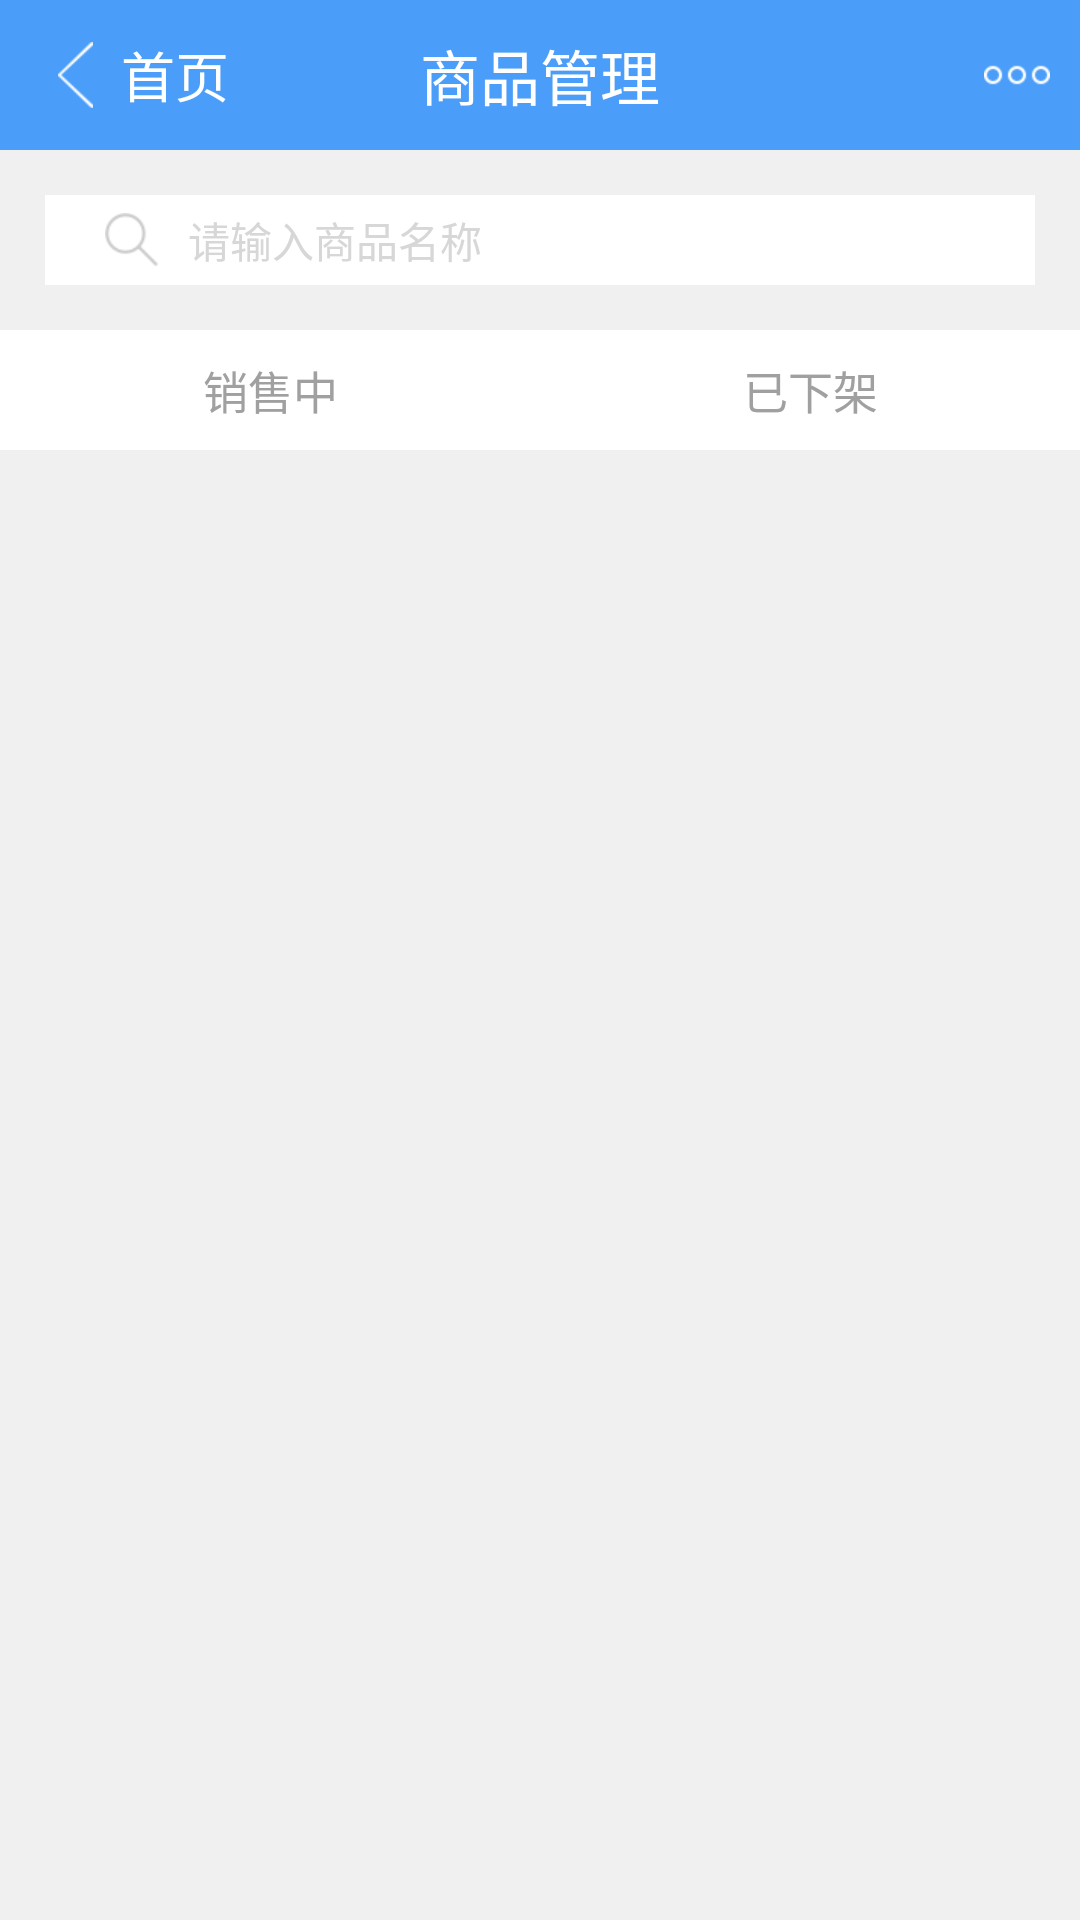

Point at icon controls on the screen. Image size 1080 × 1920, points as (x,y).
search: (131,239)
title menu: (1017,75)
